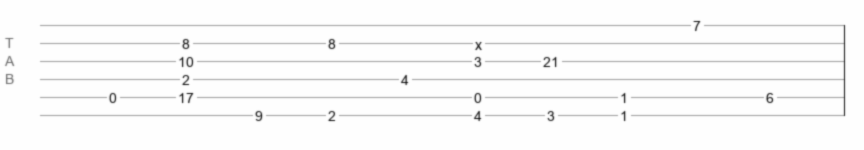0: (109, 90, 117, 100), (474, 90, 482, 100)
1: (620, 90, 628, 100), (620, 108, 628, 118)
10: (178, 54, 194, 64)
17: (178, 90, 194, 100)
2: (182, 72, 190, 82), (328, 108, 336, 118)
21: (543, 54, 559, 64)
3: (474, 54, 482, 64), (547, 108, 555, 118)
4: (401, 72, 409, 82), (474, 108, 482, 118)
6: (766, 90, 774, 100)
7: (693, 18, 701, 28)
8: (182, 36, 190, 46), (328, 36, 336, 46)
9: (255, 108, 263, 118)
x: (475, 37, 482, 45)
